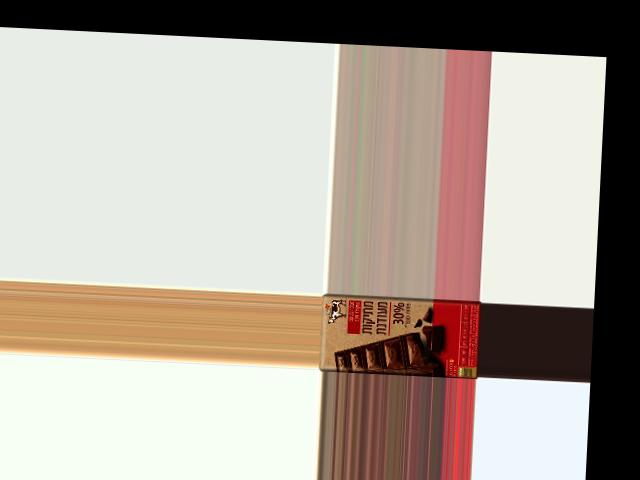chocolate: (318, 292, 480, 378)
